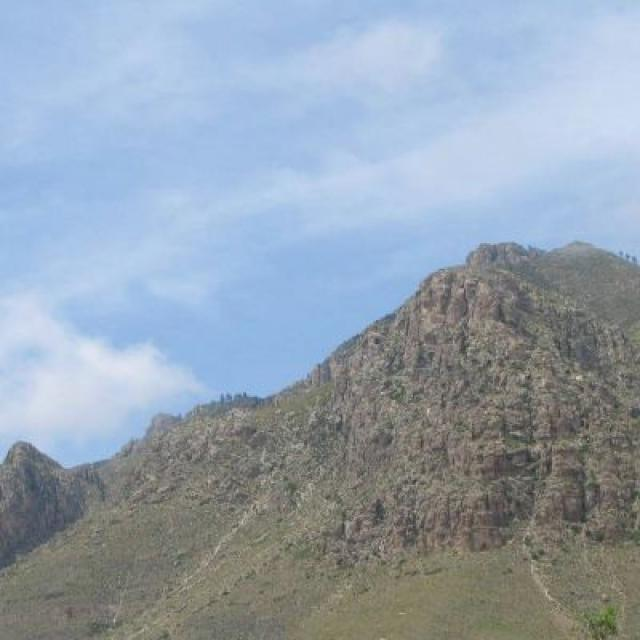Cs: (1, 23, 640, 211)
